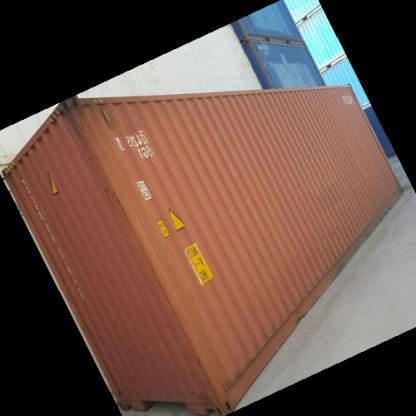Damage: (60, 102, 134, 233), (132, 219, 199, 331), (191, 322, 225, 392)
